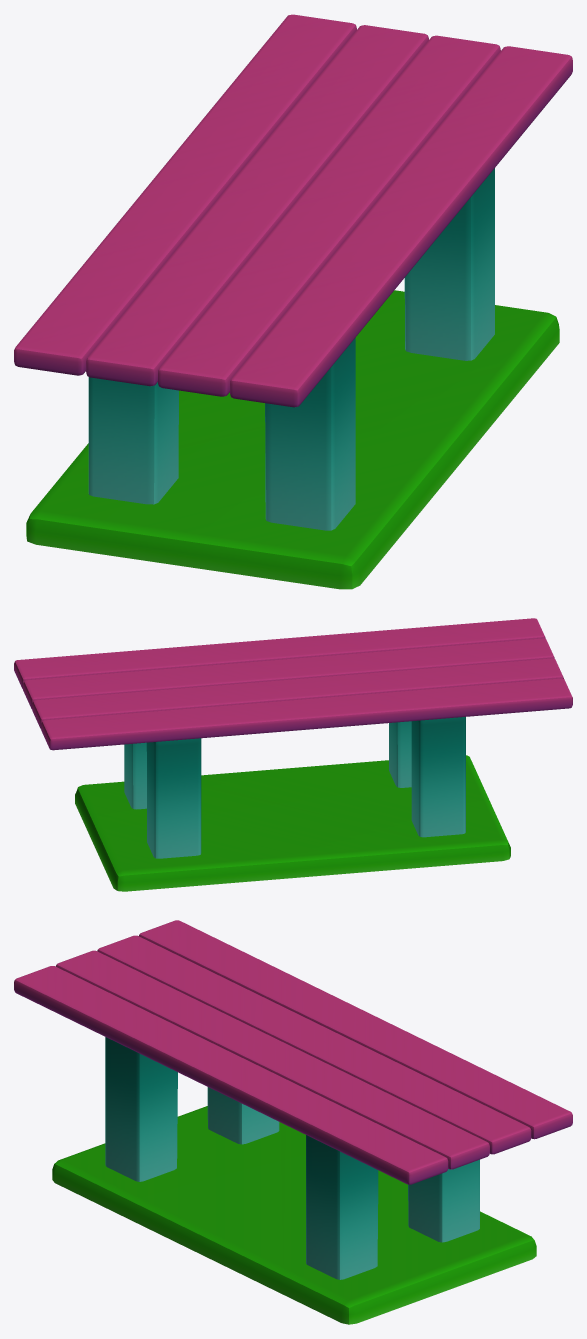
File: Bench.fbx
3 views of the same model, one above another, from view 1: azimuth 30°, elevation 25°; view 2: azimuth 150°, elevation 25°; view 3: azimuth 270°, elevation 25° (orthographic). The views are drawn at different scales.
Parts seen in each view (by area): view 1: BenchUVd; view 2: BenchUVd; view 3: BenchUVd.
Part boxes in pixels (x1=…): BenchUVd: x1=14, y1=14, x2=572, y2=589; BenchUVd: x1=14, y1=618, x2=572, y2=891; BenchUVd: x1=14, y1=920, x2=572, y2=1324.
Bounding box in the file's own units: 175 × 55.57 × 163.
